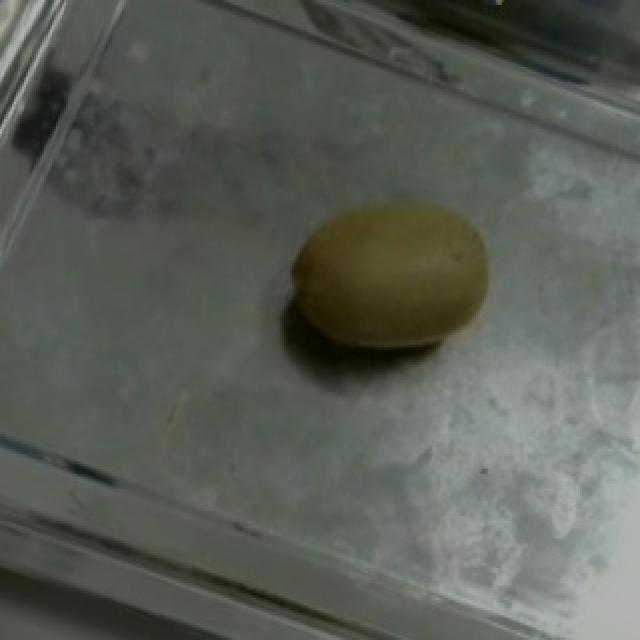Fruit: (250, 154, 530, 402)
